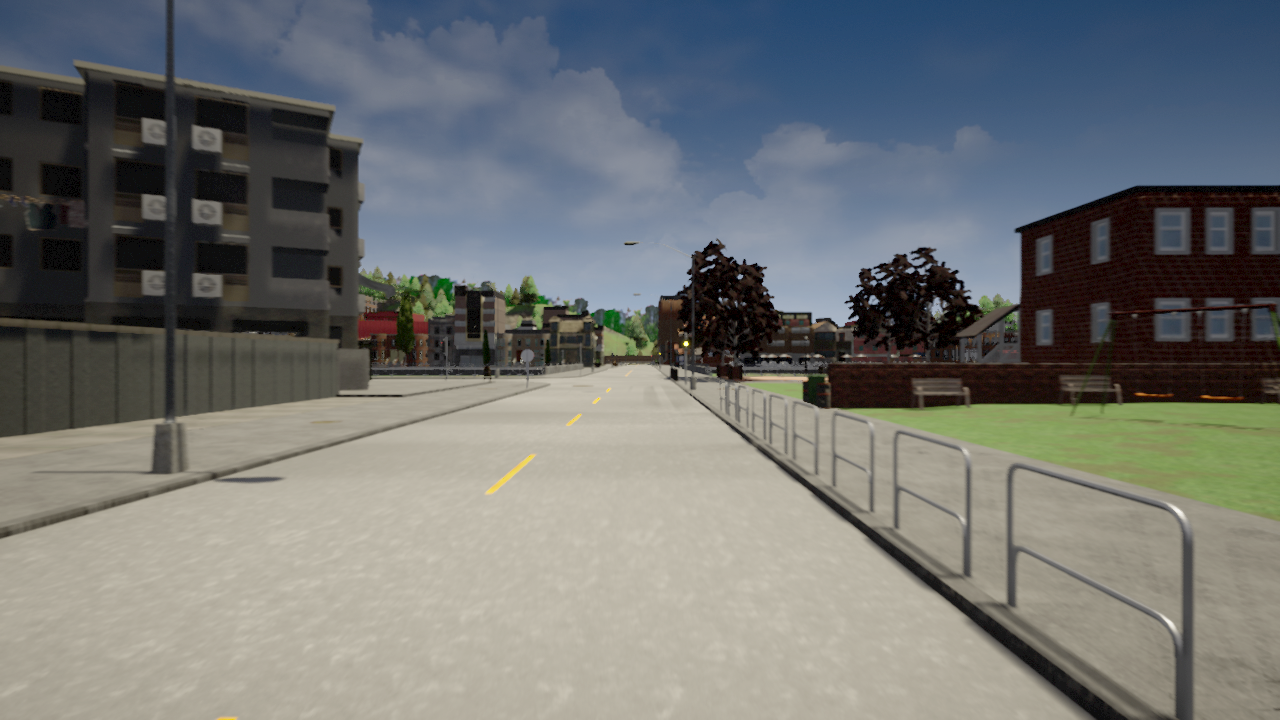yellow: (682, 336, 689, 352)
